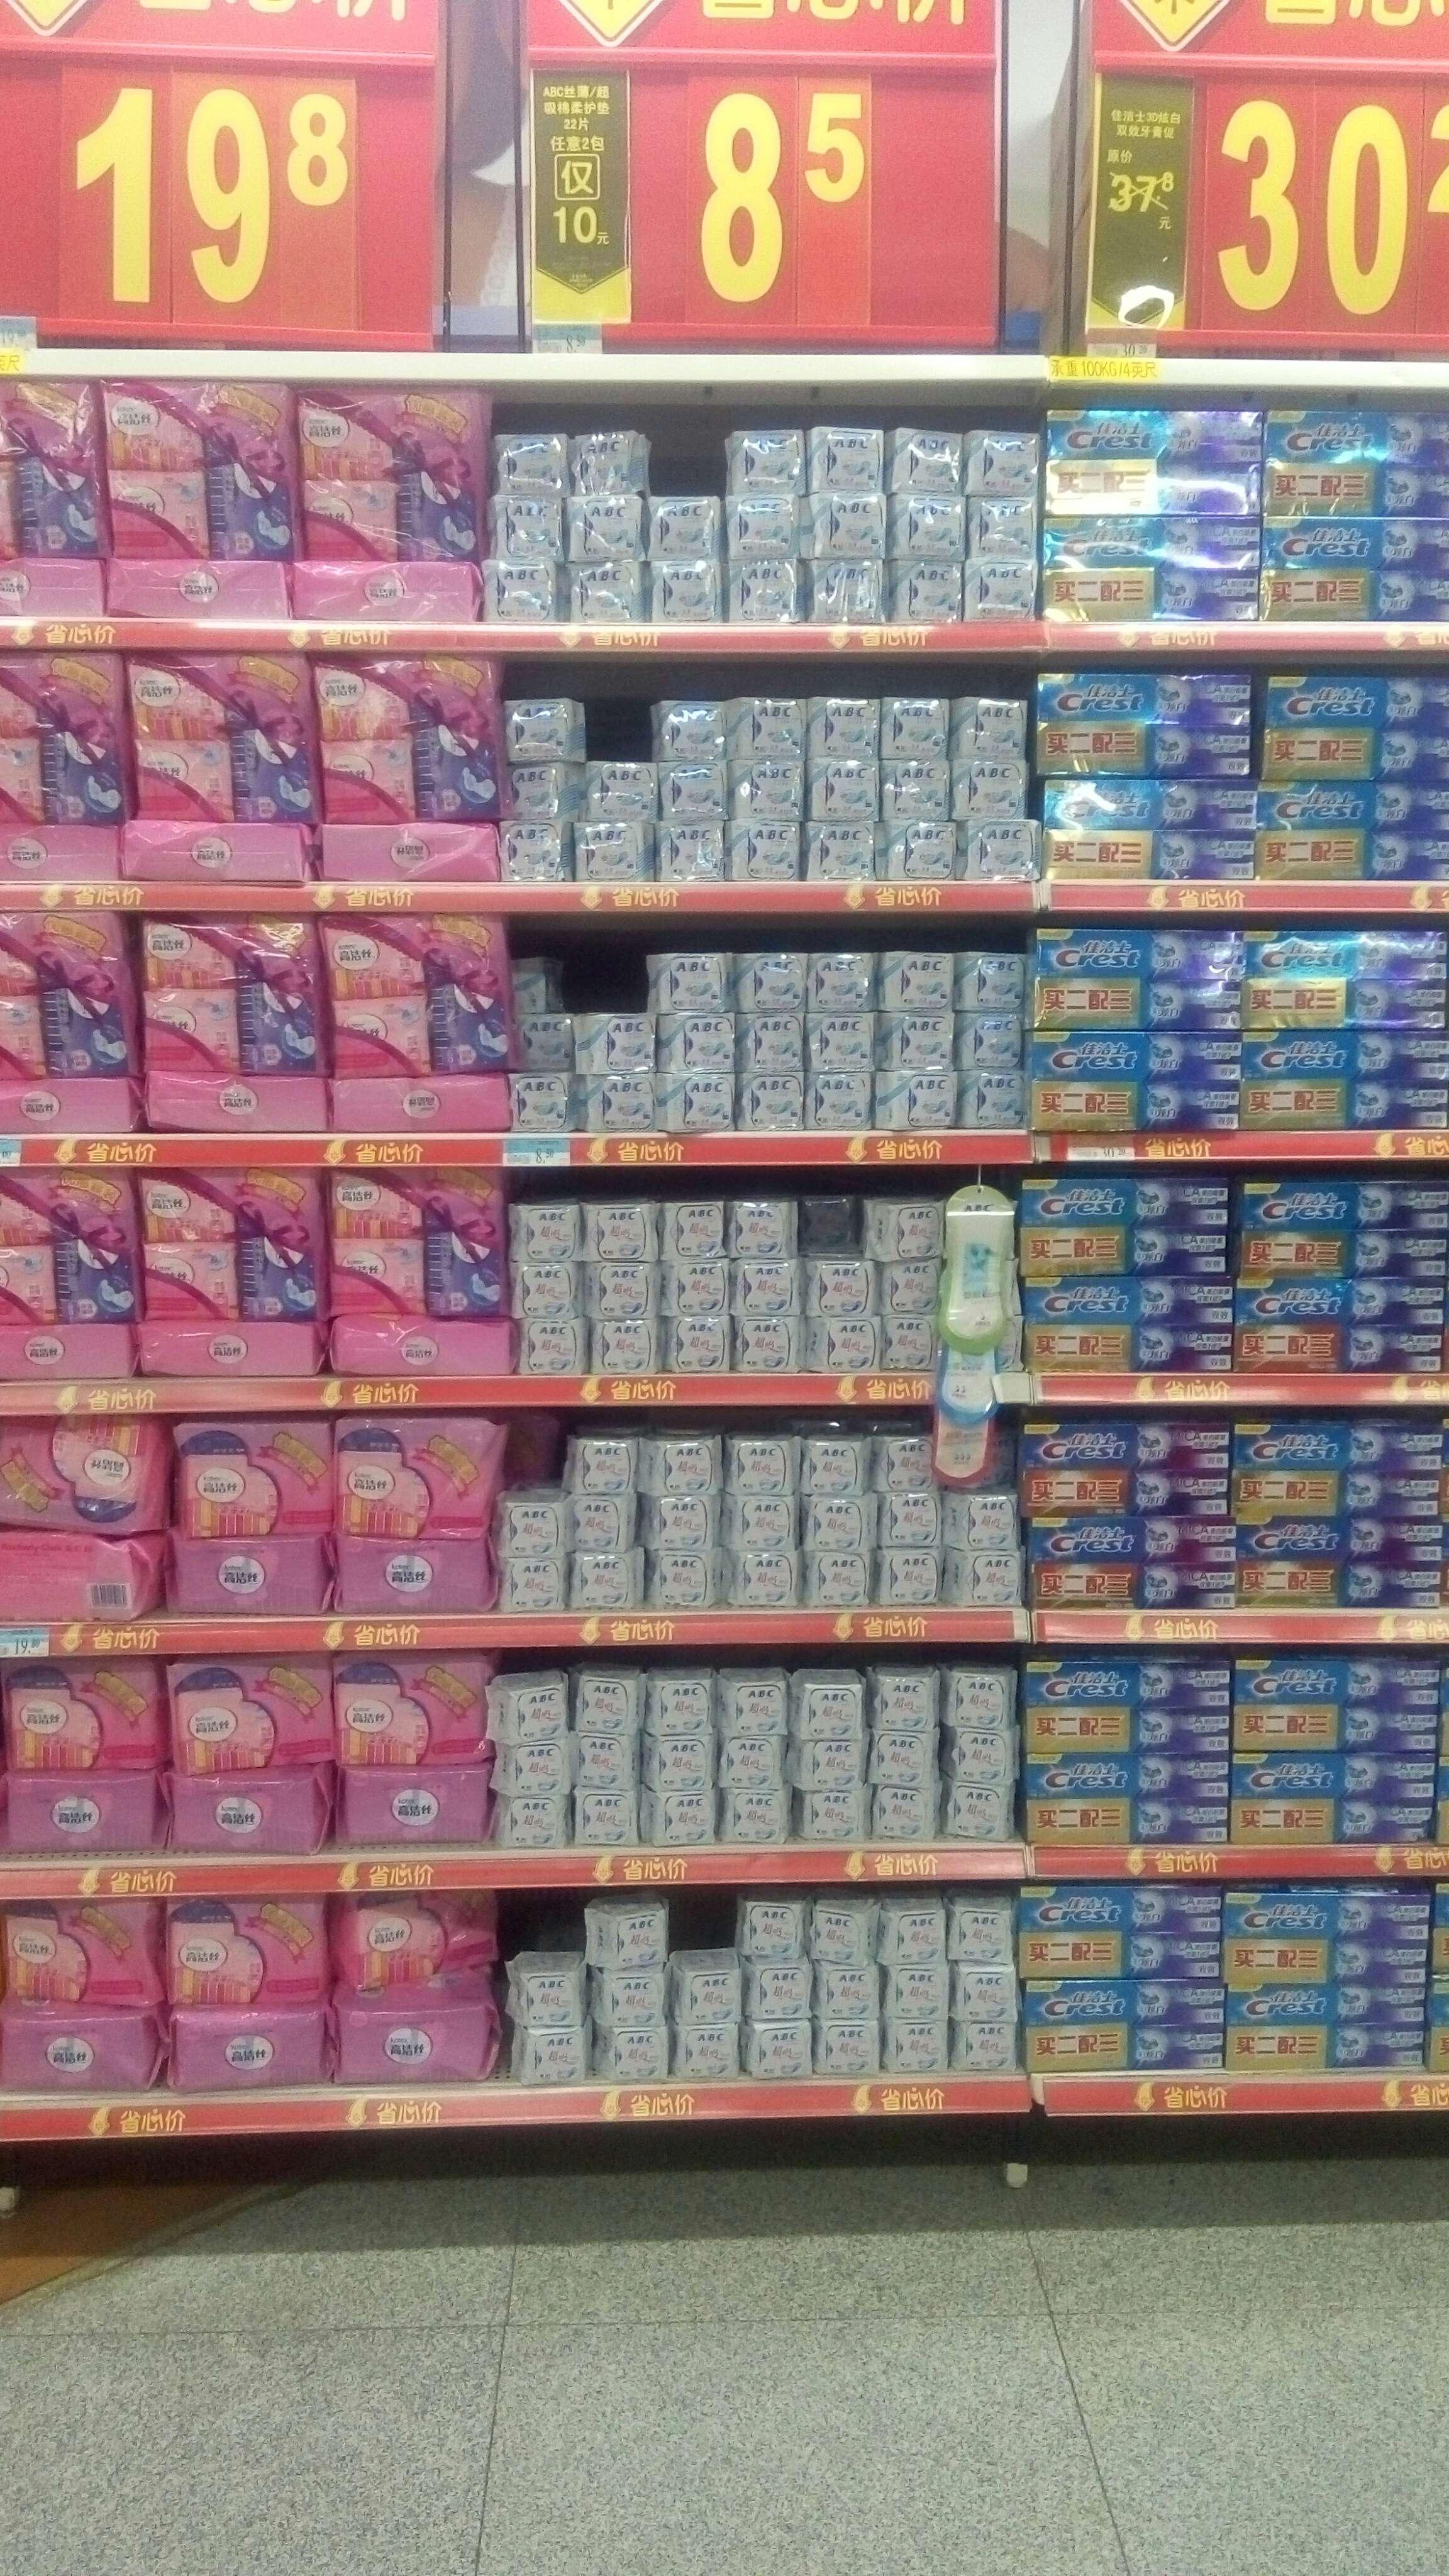empty: (556, 927, 648, 1017), (501, 1888, 579, 1976), (653, 414, 731, 501), (584, 679, 660, 766), (671, 1882, 747, 1969)
